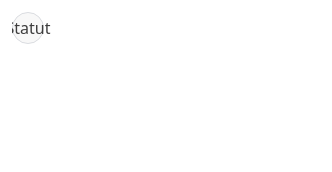
Test: Menu › is not clipped by a parent that hides its overflow
Click the button "Statut" at (28, 28), box [12,12,44,44]
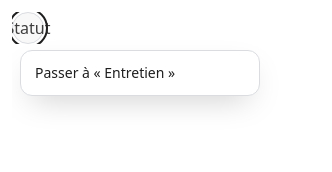
Result: the menu is shown at [20,50,260,96]
